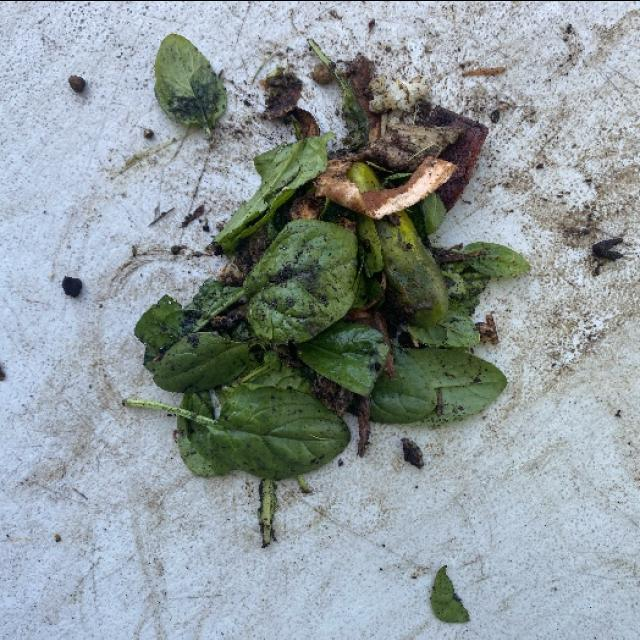organik: (130, 68, 489, 494)
